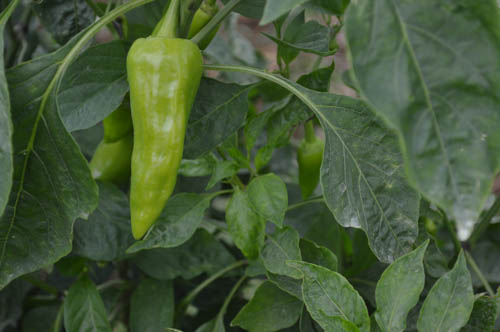ChiliPepper: (128, 39, 198, 241), (296, 142, 327, 205)
